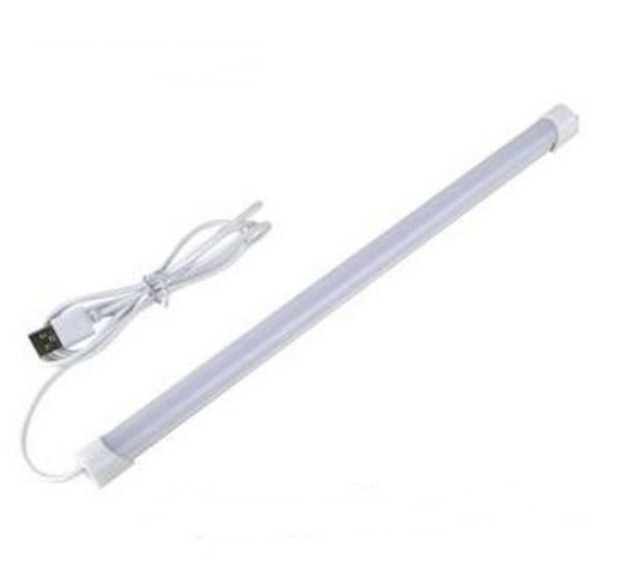Light_bulb: (72, 101, 585, 488)
